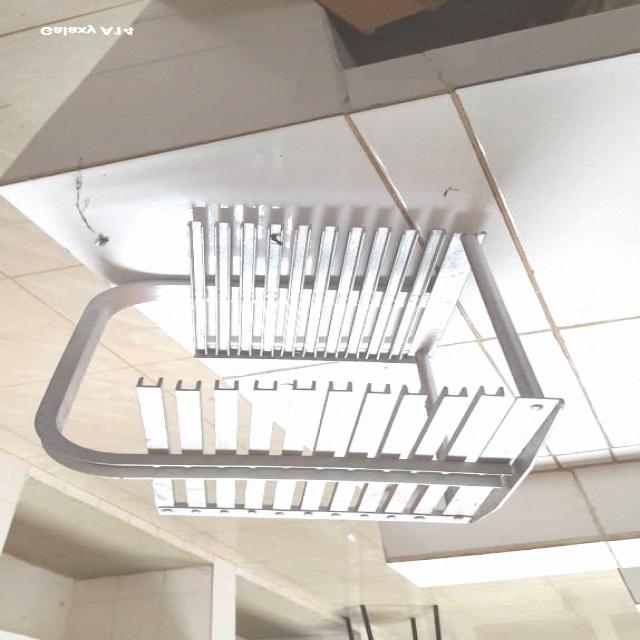Plate Rack: (32, 208, 576, 531)
